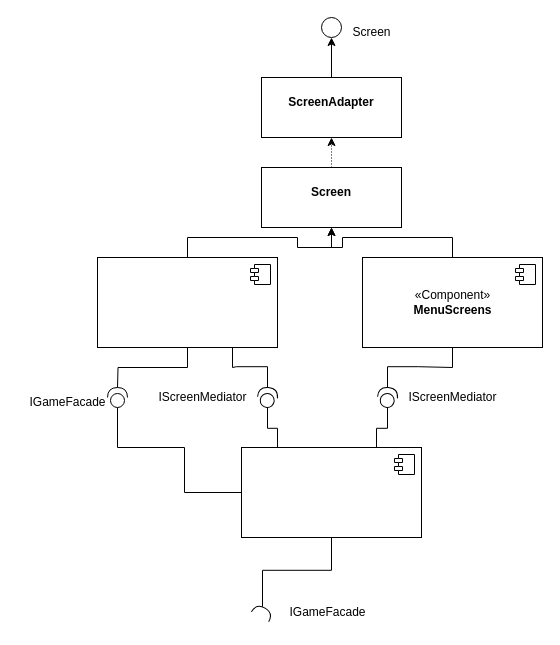
Some shapes in this 560 by 645 pixel diagram are drawn without their labels. Here are the shapes that lost their labels. From the top down, the centre of each, then its label:
At [187,302]: "«Component» GameScreen".
At [331,492]: "«Component» GameScreenMediator".
